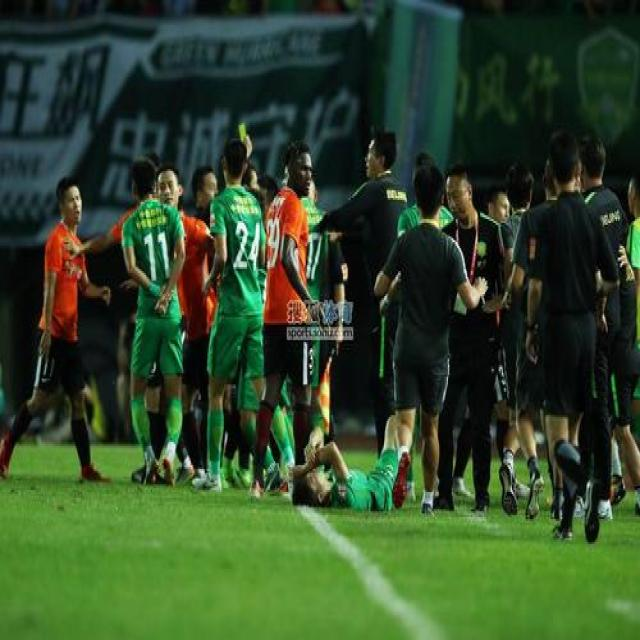10-: (16, 94, 634, 544)
down: (272, 406, 423, 522)
